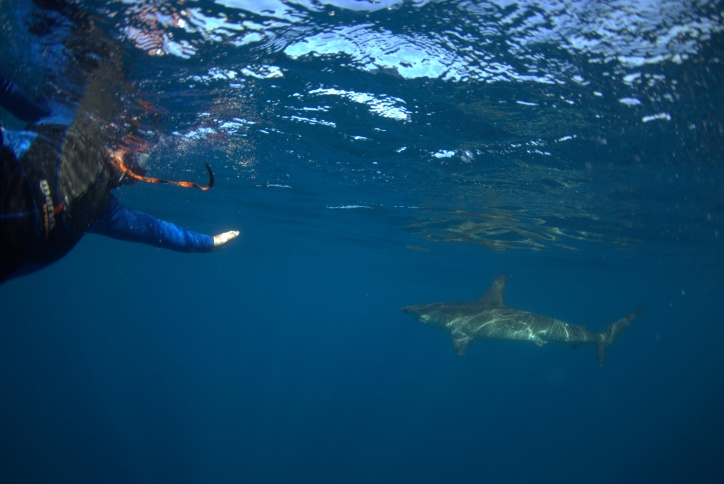Hammer: (363, 251, 660, 385)
